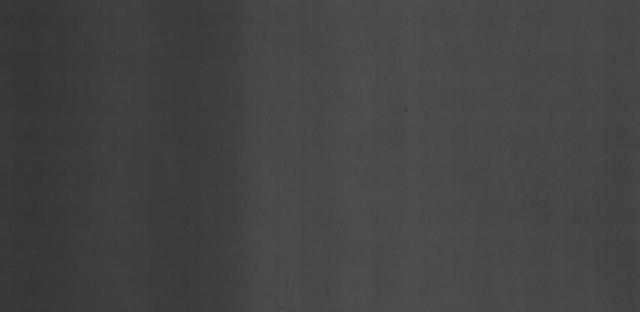inclusion: (402, 101, 413, 114)
